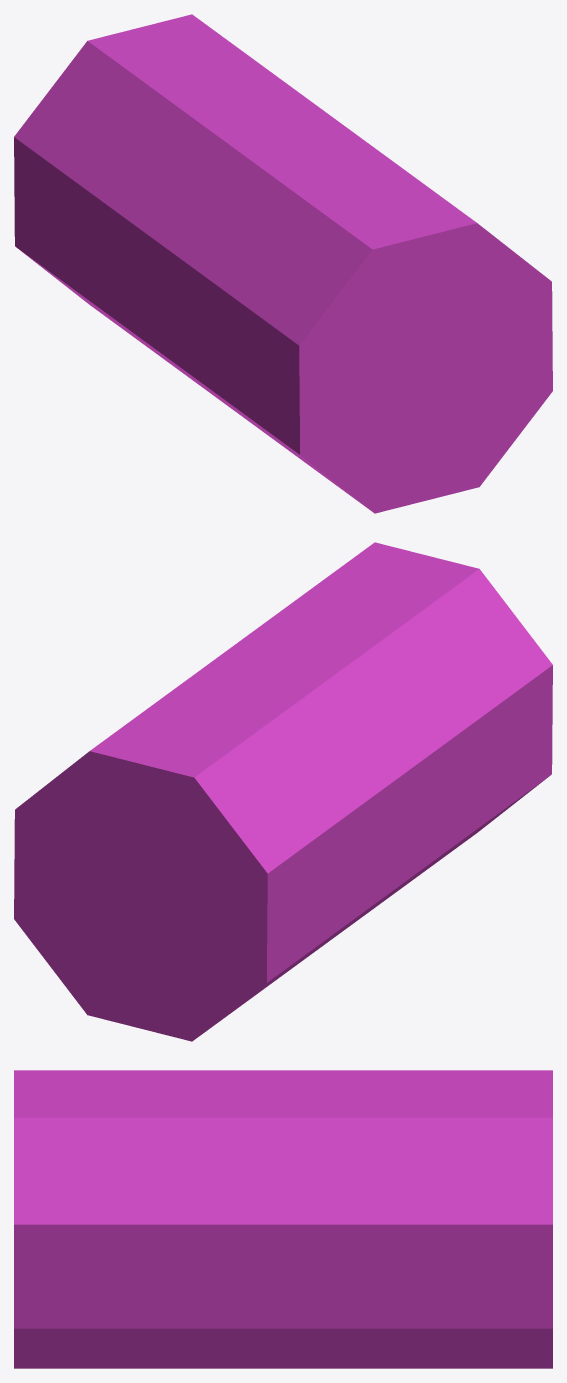
3 renders of one model, top to bottom at view 1: azimuth 30°, elevation 25°; view 2: azimuth 150°, elevation 25°; view 3: azimuth 270°, elevation 25°, orthographic. The views are drawn at different scales.
Visible parts, largest first — view 1: Cylinder; view 2: Cylinder; view 3: Cylinder.
Part boxes in pixels (box(x1,y1,x2,y2)): Cylinder: box(14, 14, 552, 513); Cylinder: box(14, 542, 552, 1041); Cylinder: box(14, 1070, 552, 1368).
Bounding box in the file's own units: 0.2416 × 0.4703 × 0.2416.
